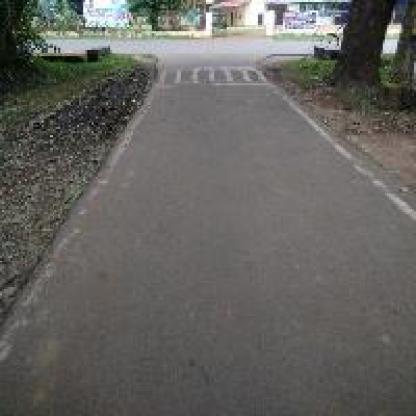Speed Bump: (156, 63, 270, 86)
